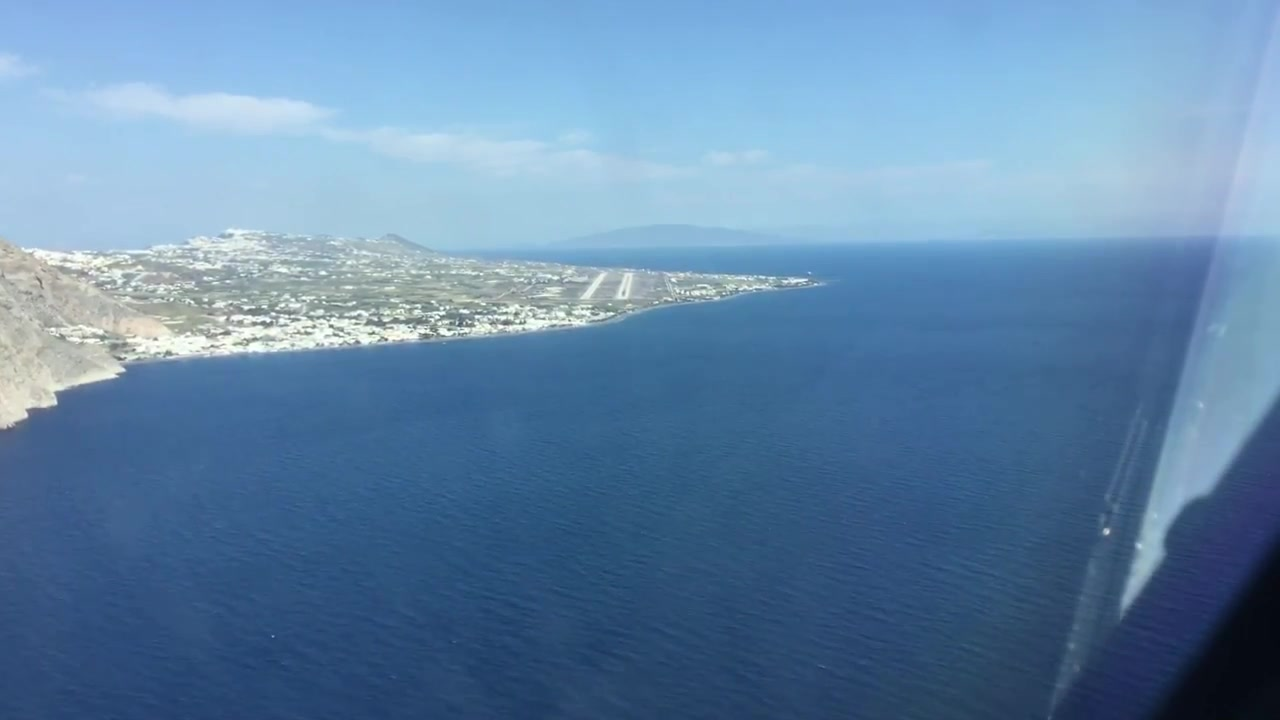runway: (578, 271, 610, 300), (615, 272, 635, 299)
